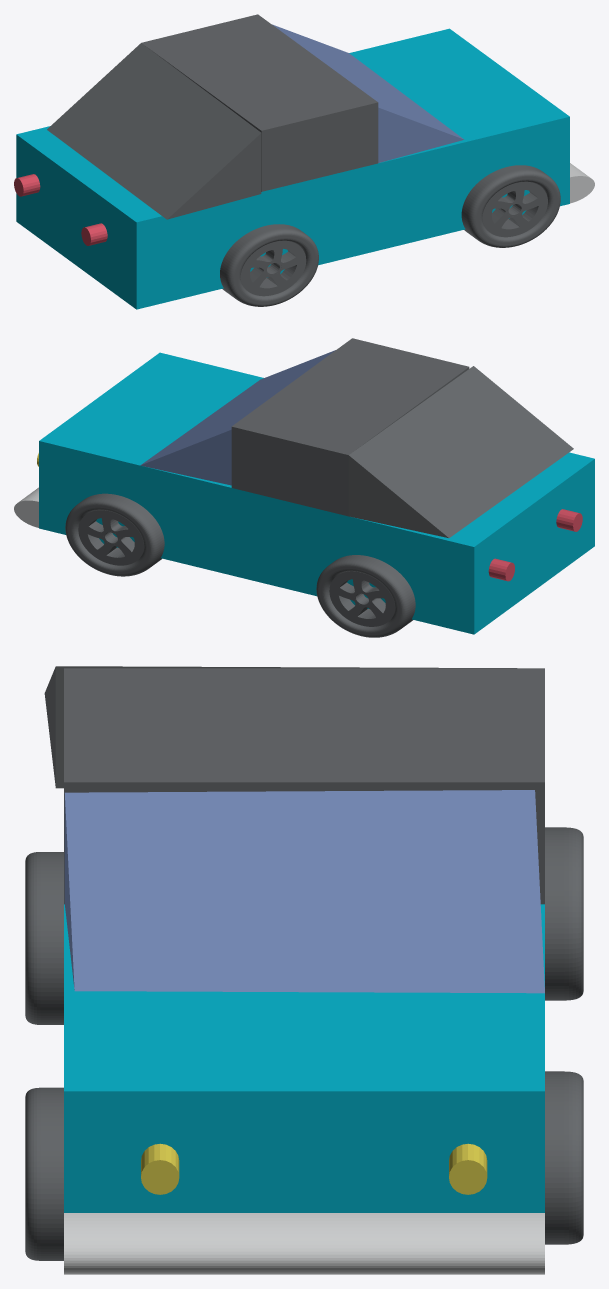
Rendered from car.glb.
3 views of the same model, one above another, from view 1: azimuth 30°, elevation 25°; view 2: azimuth 150°, elevation 25°; view 3: azimuth 270°, elevation 25° (orthographic). The views are drawn at different scales.
Parts seen in each view (by area): view 1: Mesh_Mesh_head_geo.001_lambert2SG.001; view 2: Mesh_Mesh_head_geo.001_lambert2SG.001; view 3: Mesh_Mesh_head_geo.001_lambert2SG.001.
Part boxes in pixels (x1,y1,x2,y2): Mesh_Mesh_head_geo.001_lambert2SG.001: (14, 14, 594, 309); Mesh_Mesh_head_geo.001_lambert2SG.001: (14, 338, 594, 637); Mesh_Mesh_head_geo.001_lambert2SG.001: (25, 666, 583, 1274).
Size of the model in its own units: 57 by 19.5 by 29.
